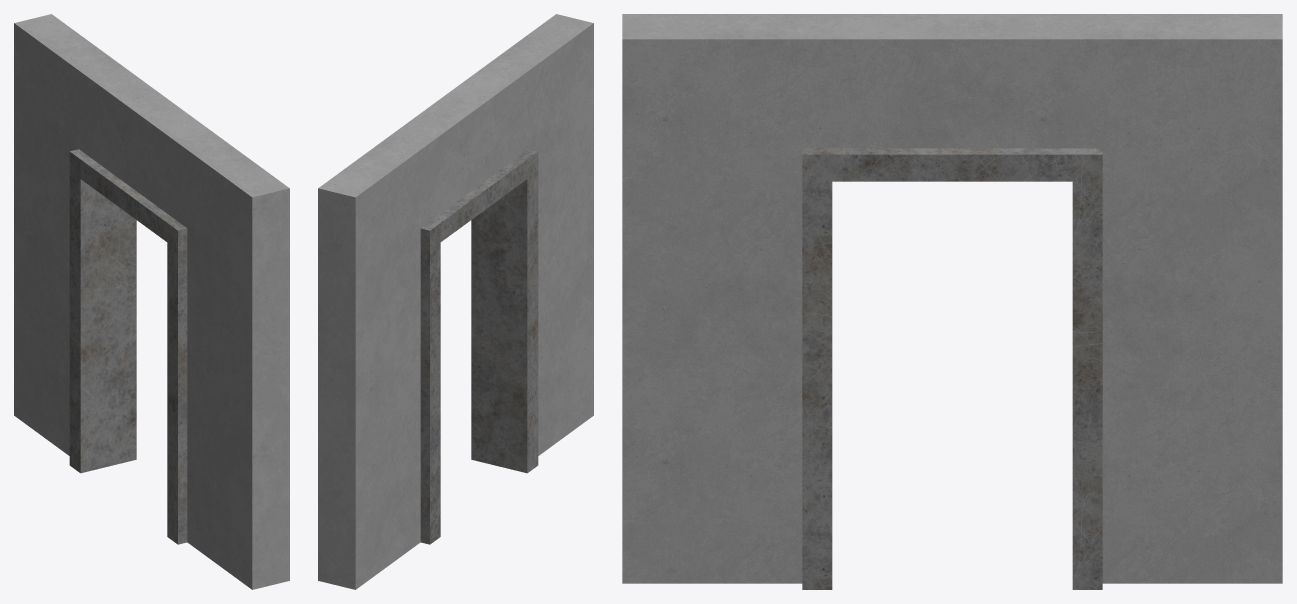
The model's file is Wall_DoorFrame.fbx.
3 views of the same model, side by side, from view 1: azimuth 30°, elevation 25°; view 2: azimuth 150°, elevation 25°; view 3: azimuth 270°, elevation 25° (orthographic). The views are drawn at different scales.
Visible parts, largest first — view 1: Wall_DoorFrame; view 2: Wall_DoorFrame; view 3: Wall_DoorFrame.
Part boxes in pixels (<box>): Wall_DoorFrame: <box>14,14,289,589</box>; Wall_DoorFrame: <box>318,14,593,589</box>; Wall_DoorFrame: <box>622,14,1282,589</box>.
Bounding box in the file's own units: 0.3 × 2 × 2.2.
